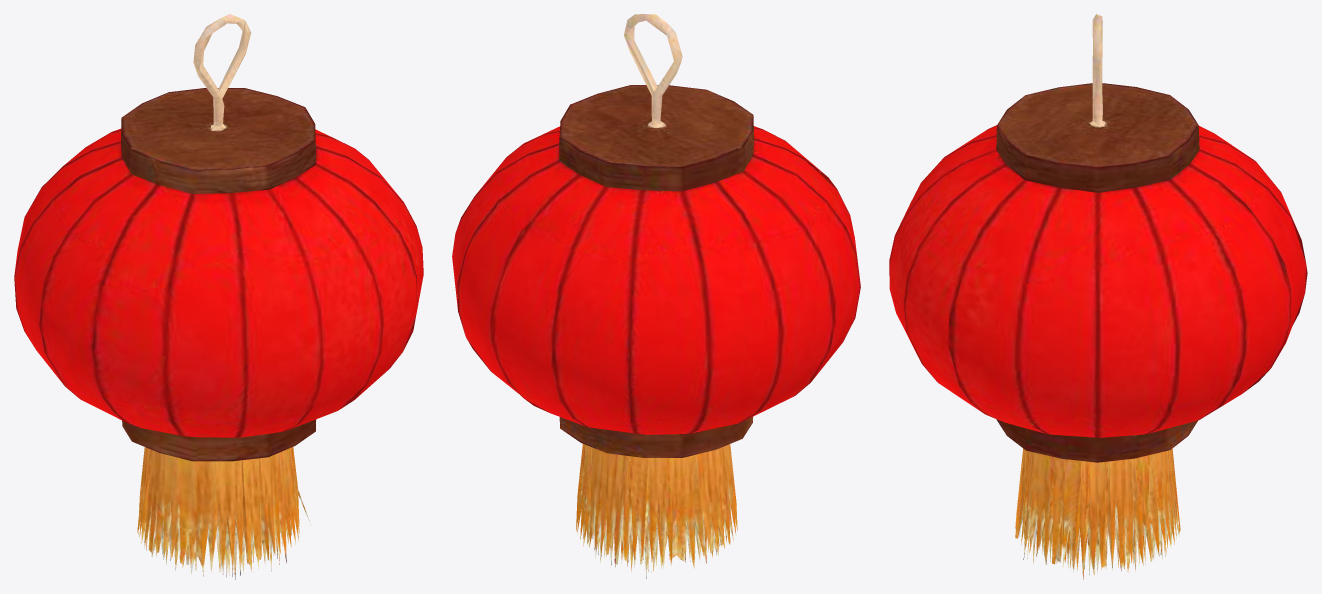
File: lantern_red.glb
The picture shows the model from 3 angles, left to right: view 1: azimuth 30°, elevation 25°; view 2: azimuth 150°, elevation 25°; view 3: azimuth 270°, elevation 25°; orthographic projection.
Visible parts, largest first — view 1: lantern_red; view 2: lantern_red; view 3: lantern_red.
Boxes of the visible parts, <box> form: lantern_red: <box>14,14,423,579</box>; lantern_red: <box>452,14,860,578</box>; lantern_red: <box>889,14,1307,579</box>.
Bounding box in the file's own units: 0.4263 × 0.6102 × 0.4275.
1 material, 1 textured.
